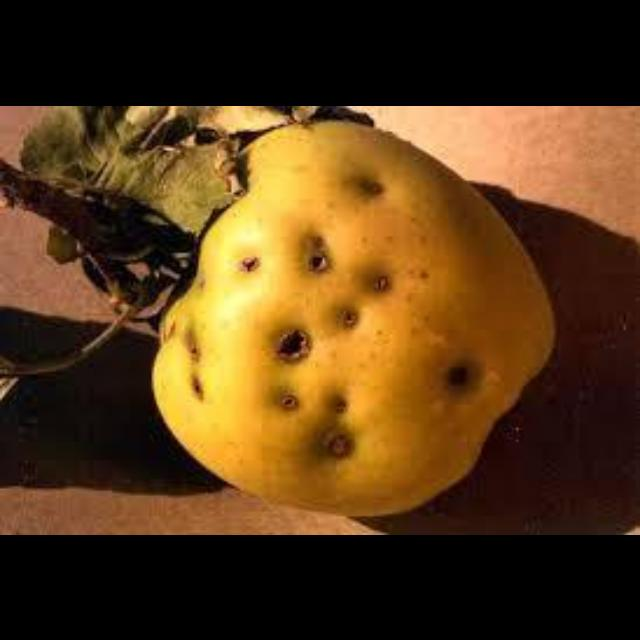apple: (154, 121, 554, 514)
pest: (278, 329, 308, 360), (446, 362, 469, 385), (357, 177, 381, 194), (308, 250, 327, 269), (280, 392, 297, 409), (341, 308, 355, 325), (374, 276, 388, 290), (241, 257, 257, 269), (334, 397, 346, 411)
